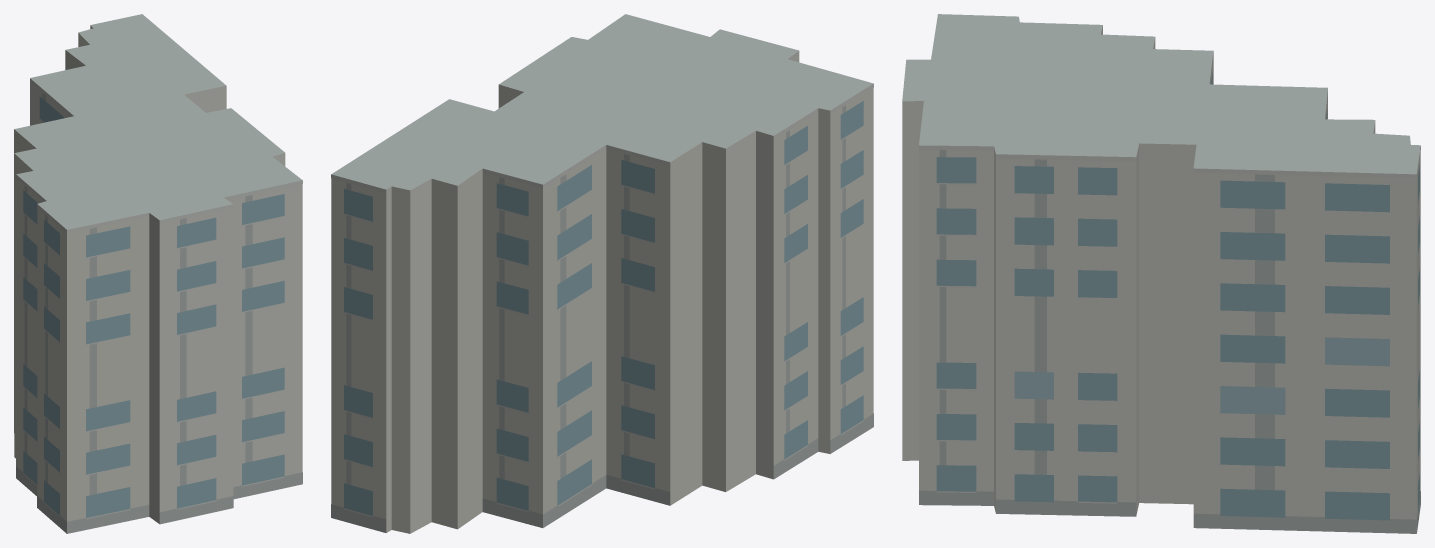
File: survey-upis-32640057.glb
3 renders of one model, left to right at view 1: azimuth 30°, elevation 25°; view 2: azimuth 150°, elevation 25°; view 3: azimuth 270°, elevation 25°, orthographic. The views are drawn at different scales.
Parts seen in each view (by area): view 1: survey-upis-32640057.tmp; view 2: survey-upis-32640057.tmp; view 3: survey-upis-32640057.tmp.
Boxes of the visible parts, x1,y1,x2,y2 form: survey-upis-32640057.tmp: [14, 14, 302, 533]; survey-upis-32640057.tmp: [331, 14, 873, 533]; survey-upis-32640057.tmp: [902, 14, 1420, 533].
Size of the model in its own units: 19.37 by 20.25 by 26.48.
